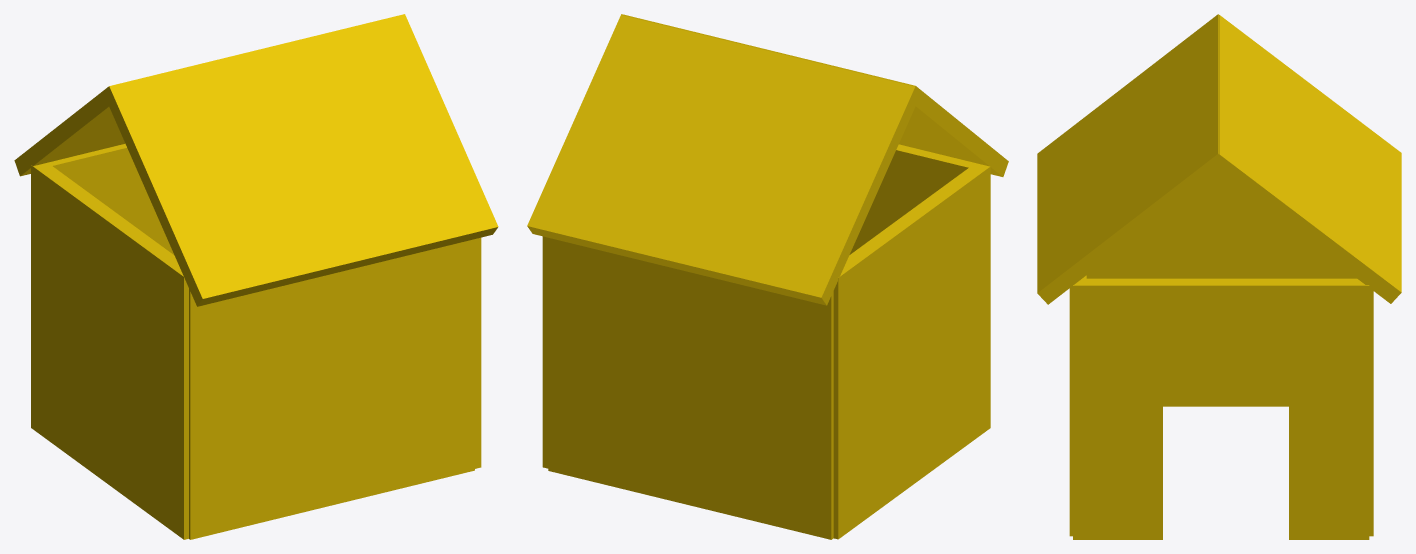
The model's file is Hut_02_W_Collider.fbx.
3 renders of one model, left to right at view 1: azimuth 30°, elevation 25°; view 2: azimuth 150°, elevation 25°; view 3: azimuth 270°, elevation 25°, orthographic. The views are drawn at different scales.
Visible parts, largest first — view 1: Hut_02_W_Collider; view 2: Hut_02_W_Collider; view 3: Hut_02_W_Collider.
Boxes of the visible parts, <box> form: Hut_02_W_Collider: <box>14,14,498,539</box>; Hut_02_W_Collider: <box>527,14,1008,539</box>; Hut_02_W_Collider: <box>1037,14,1401,539</box>.
Size of the model in its own units: 345 by 442 by 378.
